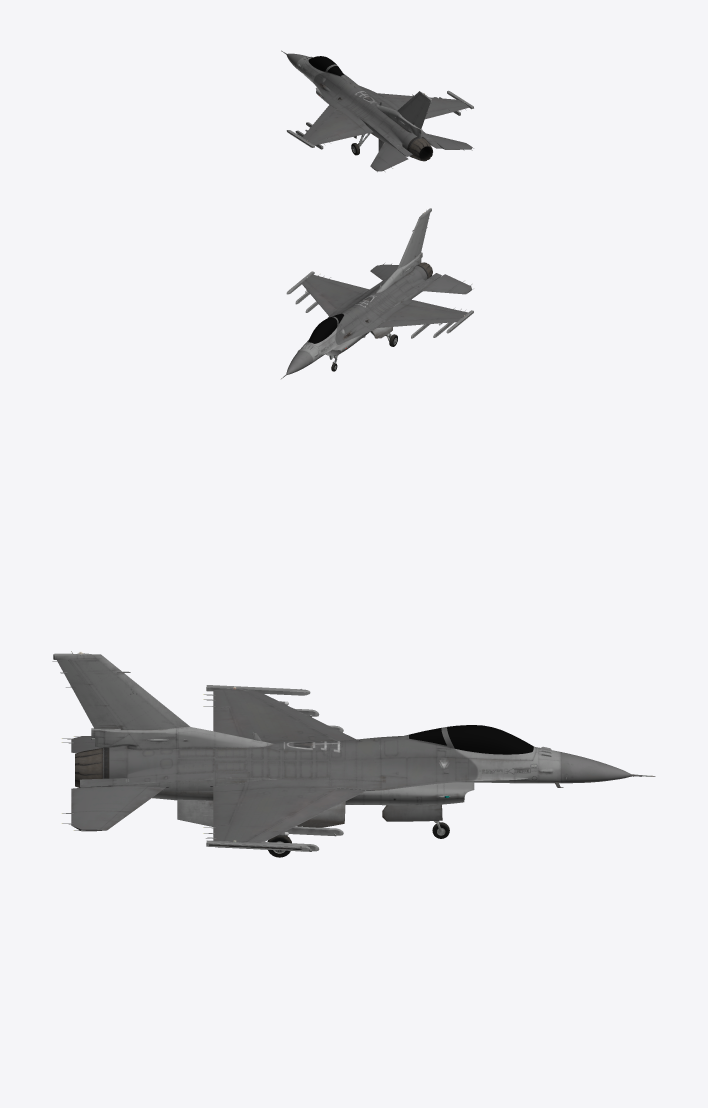
3 renders of one model, top to bottom at view 1: azimuth 30°, elevation 25°; view 2: azimuth 150°, elevation 25°; view 3: azimuth 270°, elevation 25°, orthographic. The views are drawn at different scales.
Parts seen in each view (by area): view 1: Aircraft, LeftFlap1, Object_6, RightFlap1, LeftFlap2, LeftAileron1; view 2: Aircraft, LeftFlap1, Object_6, LeftAileron1, RightAileron1, Object_20; view 3: Aircraft, RightFlap1, Object_6, Rudder, RightAileron1, RightFlap2, Object017, LeftAileron1.
Part boxes in pixels (box(x1,y1,x2,y2)): Aircraft: box(281, 50, 473, 161); LeftFlap1: box(370, 141, 408, 171); Object_6: box(308, 56, 343, 76); RightFlap1: box(426, 133, 473, 150); LeftFlap2: box(328, 124, 373, 141); LeftAileron1: box(302, 105, 336, 139); Aircraft: box(281, 208, 473, 378); LeftFlap1: box(422, 274, 472, 294); Object_6: box(308, 313, 343, 343); LeftAileron1: box(377, 318, 460, 327); RightAileron1: box(301, 280, 336, 315); Object_20: box(295, 292, 453, 338); Aircraft: box(53, 651, 655, 851); RightFlap1: box(62, 786, 165, 831); Object_6: box(409, 725, 533, 754); Rudder: box(52, 660, 122, 729); RightAileron1: box(246, 788, 365, 842); RightFlap2: box(213, 782, 244, 826); Object017: box(382, 804, 442, 821); LeftAileron1: box(246, 690, 356, 740).
Bounding box in the file's own units: 40.08 × 5.34 × 15.39.
Materials: 13 (1 with a texture image).
